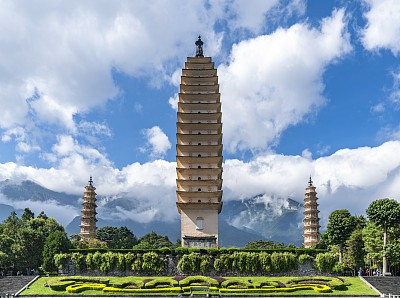ThreePagoda: (176, 35, 223, 249)
